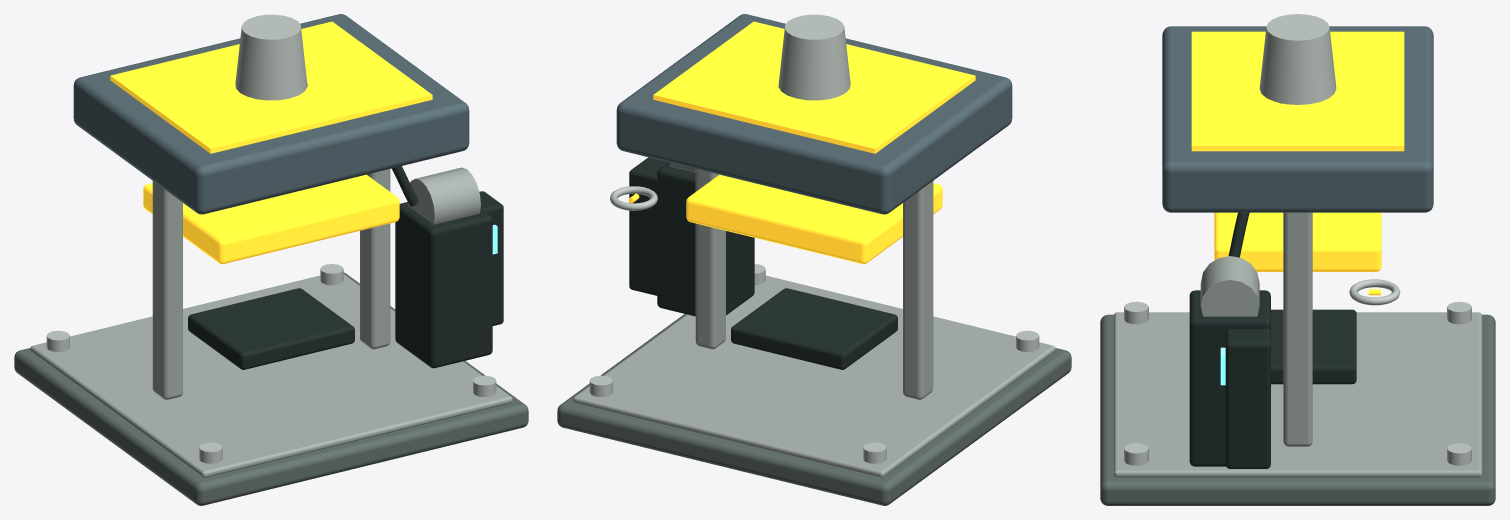
The model's file is hydraulic_press_detail.glb.
3 renders of one model, left to right at view 1: azimuth 30°, elevation 25°; view 2: azimuth 150°, elevation 25°; view 3: azimuth 270°, elevation 25°, orthographic. The views are drawn at different scales.
Parts seen in each view (by area): view 1: base_deck, top_beam, top_inlay, base_lower, hydraulic_unit, moving_platen, die_table, left_column, hydraulic_cylinder, right_column, hydraulic_reservoir, control_panel; view 2: base_deck, top_beam, top_inlay, base_lower, moving_platen, die_table, hydraulic_unit, left_column, hydraulic_cylinder, right_column, control_panel, pressure_gauge; view 3: base_deck, top_beam, top_inlay, base_lower, moving_platen, right_column, hydraulic_unit, control_panel, hydraulic_cylinder, die_table, hydraulic_reservoir, pressure_gauge (+5 smaller).
Boxes of the visible parts, <box> form: base_deck: <box>30,274,512,477</box>; top_beam: <box>73,14,469,214</box>; top_inlay: <box>110,21,432,153</box>; base_lower: <box>14,272,528,505</box>; hydraulic_unit: <box>395,202,492,368</box>; moving_platen: <box>143,174,399,264</box>; die_table: <box>188,288,354,369</box>; left_column: <box>152,181,182,399</box>; hydraulic_cylinder: <box>235,14,307,100</box>; right_column: <box>360,169,390,349</box>; hydraulic_reservoir: <box>407,167,480,224</box>; control_panel: <box>479,191,503,325</box>; base_deck: <box>573,275,1055,477</box>; top_beam: <box>616,14,1012,214</box>; top_inlay: <box>653,21,975,153</box>; base_lower: <box>557,314,1071,505</box>; moving_platen: <box>686,174,942,264</box>; die_table: <box>731,288,897,369</box>; hydraulic_unit: <box>657,162,754,316</box>; left_column: <box>903,181,933,399</box>; hydraulic_cylinder: <box>778,14,850,100</box>; right_column: <box>695,169,725,349</box>; control_panel: <box>629,157,674,295</box>; pressure_gauge: <box>610,186,657,210</box>; base_deck: <box>1113,312,1482,477</box>; top_beam: <box>1162,26,1433,212</box>; top_inlay: <box>1191,31,1404,151</box>; base_lower: <box>1100,314,1495,505</box>; moving_platen: <box>1214,212,1381,271</box>; right_column: <box>1283,212,1312,446</box>; hydraulic_unit: <box>1189,290,1270,466</box>; control_panel: <box>1225,329,1270,468</box>; hydraulic_cylinder: <box>1259,14,1336,104</box>; die_table: <box>1271,309,1356,384</box>; hydraulic_reservoir: <box>1200,256,1259,316</box>; pressure_gauge: <box>1349,279,1400,305</box>.
Size of the model in its own units: 1.98 by 1.93 by 1.75.
